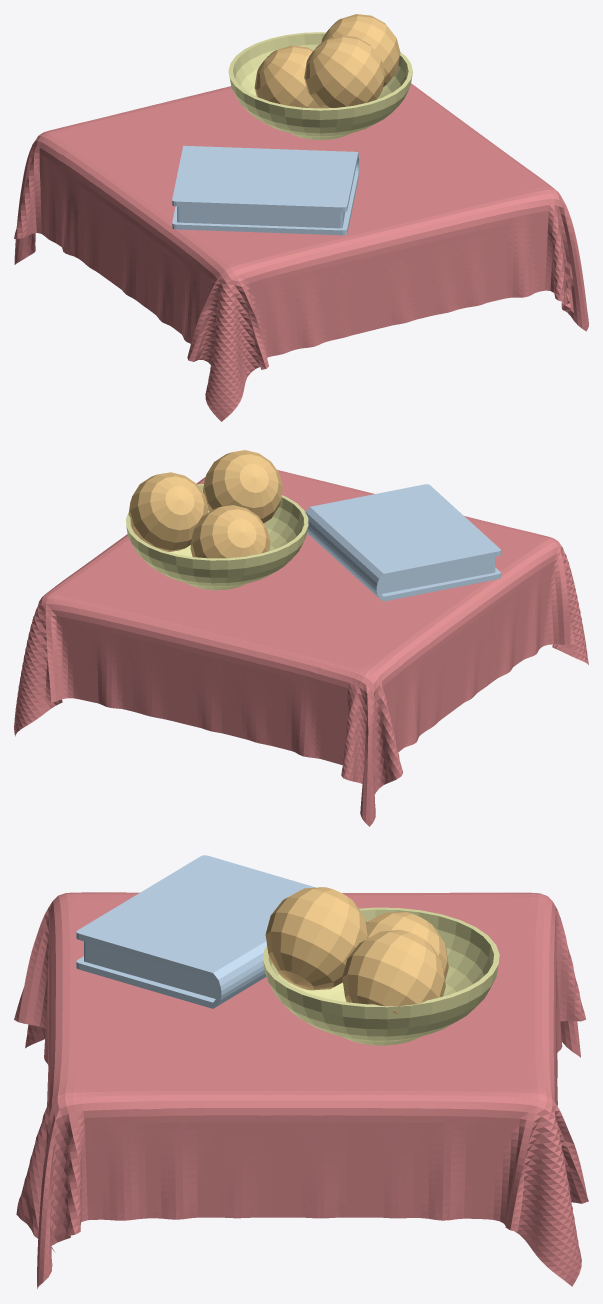
File: 117909_assembly.glb
3 views of the same model, one above another, from view 1: azimuth 30°, elevation 25°; view 2: azimuth 150°, elevation 25°; view 3: azimuth 270°, elevation 25° (orthographic). The views are drawn at different scales.
Visible parts, largest first — view 1: part_00, part_03, part_01, part_02; view 2: part_00, part_03, part_01, part_02; view 3: part_00, part_03, part_01, part_02.
Boxes of the visible parts, bbox=[...] form: part_00: bbox=[14, 83, 588, 421]; part_03: bbox=[172, 145, 358, 235]; part_01: bbox=[254, 14, 400, 108]; part_02: bbox=[228, 32, 412, 139]; part_00: bbox=[14, 470, 588, 826]; part_03: bbox=[305, 484, 500, 601]; part_01: bbox=[128, 450, 282, 558]; part_02: bbox=[126, 484, 308, 590]; part_00: bbox=[14, 892, 588, 1288]; part_03: bbox=[76, 855, 315, 1008]; part_01: bbox=[265, 887, 448, 1014]; part_02: bbox=[263, 907, 499, 1045].
Size of the model in its own units: 1.01 by 0.6142 by 1.01.
